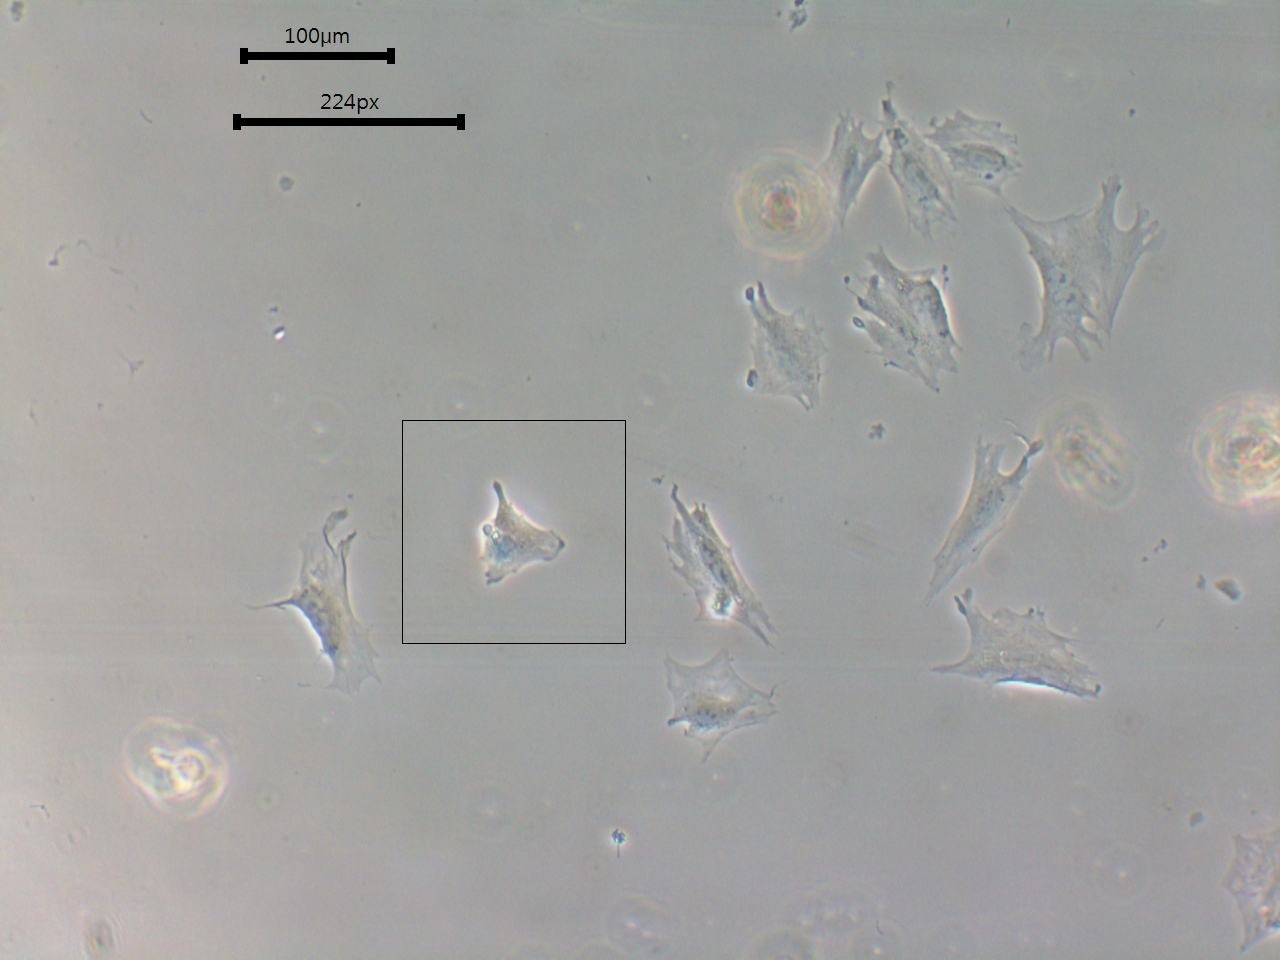dividing: (992, 177, 1171, 373), (262, 506, 381, 718), (654, 481, 789, 659)
large-polygonal: (922, 424, 1042, 619)
medium-polygonal: (472, 473, 570, 600), (877, 88, 954, 243), (810, 104, 882, 234)
medium-spread: (930, 593, 1110, 709), (641, 649, 791, 764), (857, 251, 964, 407), (732, 280, 839, 414), (927, 104, 1030, 195)
